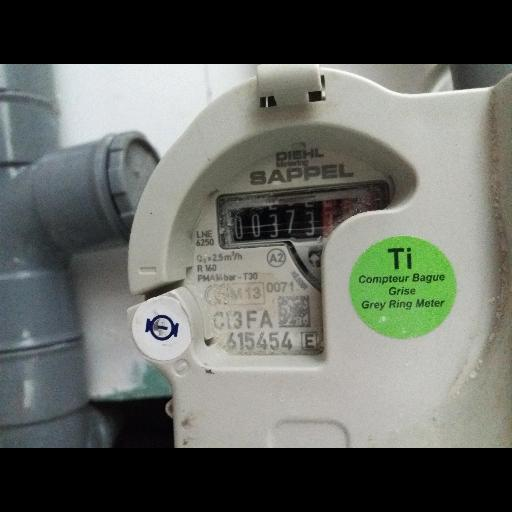0: (229, 208, 247, 242), (247, 207, 265, 241)
3: (321, 199, 338, 237), (265, 205, 283, 240), (303, 202, 320, 239)
7: (283, 203, 299, 240)
border_water_meter_number: (215, 180, 394, 253)
